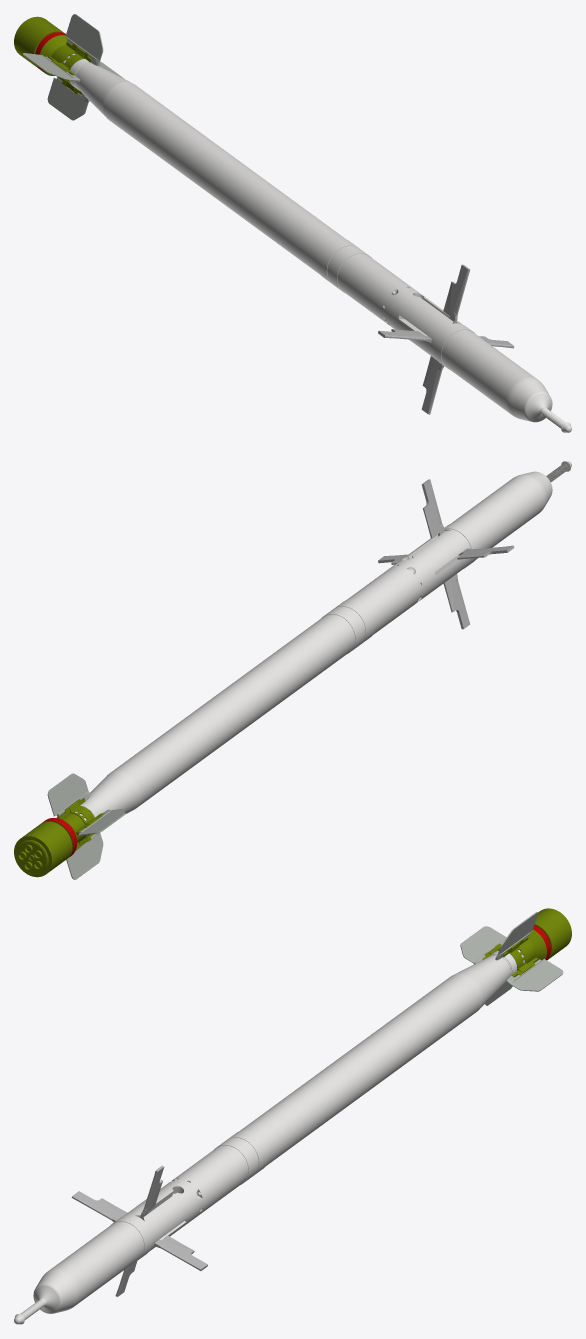
Rendered from dantenlua.fbx.
3 views of the same model, one above another, from view 1: azimuth 30°, elevation 25°; view 2: azimuth 150°, elevation 25°; view 3: azimuth 330°, elevation 25° (orthographic).
Visible parts, largest first — view 1: lắp ghép_than, lắp ghép_phan đầu, lắp ghép_duoi, lắp ghép_canh sau_2, lắp ghép_canh sau, lắp ghép_canh_2, lắp ghép_canh, lắp ghép_canh sau_1; view 2: lắp ghép_than, lắp ghép_phan đầu, lắp ghép_duoi, lắp ghép_canh sau_2, lắp ghép_canh sau, lắp ghép_canh_2, lắp ghép_canh, lắp ghép_canh sau_1; view 3: lắp ghép_than, lắp ghép_phan đầu, lắp ghép_duoi, lắp ghép_canh sau_3, lắp ghép_canh sau_1, lắp ghép_canh_3, lắp ghép_canh_1, lắp ghép_canh sau_2.
Boxes of the visible parts, x1,y1,x2,y2 form: lắp ghép_than: [69, 59, 407, 319]; lắp ghép_phan đầu: [377, 283, 571, 432]; lắp ghép_duoi: [14, 16, 91, 94]; lắp ghép_canh sau_2: [65, 14, 103, 66]; lắp ghép_canh sau: [47, 77, 89, 120]; lắp ghép_canh_2: [443, 264, 470, 323]; lắp ghép_canh: [421, 356, 444, 414]; lắp ghép_canh sau_1: [22, 53, 80, 81]; lắp ghép_than: [80, 570, 415, 817]; lắp ghép_phan đầu: [386, 461, 571, 606]; lắp ghép_duoi: [14, 798, 103, 877]; lắp ghép_canh sau_2: [47, 773, 90, 816]; lắp ghép_canh sau: [66, 832, 103, 879]; lắp ghép_canh_2: [421, 479, 445, 538]; lắp ghép_canh: [443, 574, 470, 629]; lắp ghép_canh sau_1: [78, 809, 125, 835]; lắp ghép_than: [178, 950, 517, 1211]; lắp ghép_phan đầu: [14, 1174, 208, 1324]; lắp ghép_duoi: [482, 908, 571, 977]; lắp ghép_canh sau_3: [505, 958, 563, 991]; lắp ghép_canh sau_1: [460, 926, 506, 964]; lắp ghép_canh_3: [154, 1236, 207, 1270]; lắp ghép_canh_1: [71, 1191, 127, 1221]; lắp ghép_canh sau_2: [495, 912, 538, 960].
Size of the model in its own units: 3741 by 3741 by 26930.
